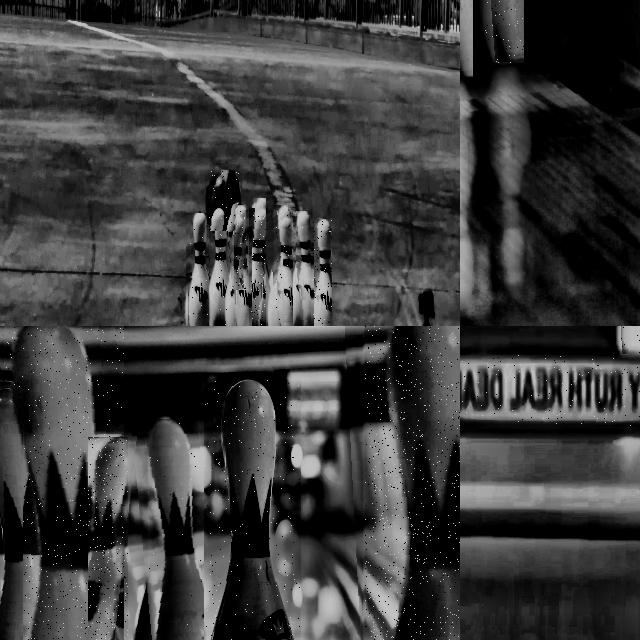bowling-ball: (208, 170, 239, 230)
bowling-pins: (11, 326, 113, 640), (384, 326, 460, 640), (210, 379, 292, 640), (148, 419, 204, 640), (88, 438, 128, 640), (0, 389, 22, 640), (187, 213, 211, 326), (488, 0, 524, 63), (209, 210, 228, 326), (232, 211, 249, 326), (313, 219, 331, 326), (276, 213, 293, 326), (296, 212, 311, 326), (251, 208, 265, 326), (235, 204, 245, 290), (255, 199, 266, 214), (278, 206, 288, 220)
sweep board: (460, 356, 640, 426)
